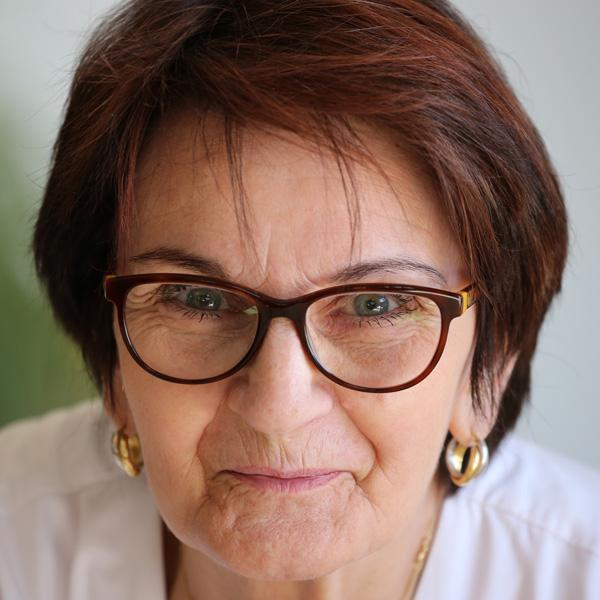Eyes: (145, 266, 248, 328), (321, 274, 421, 333)
